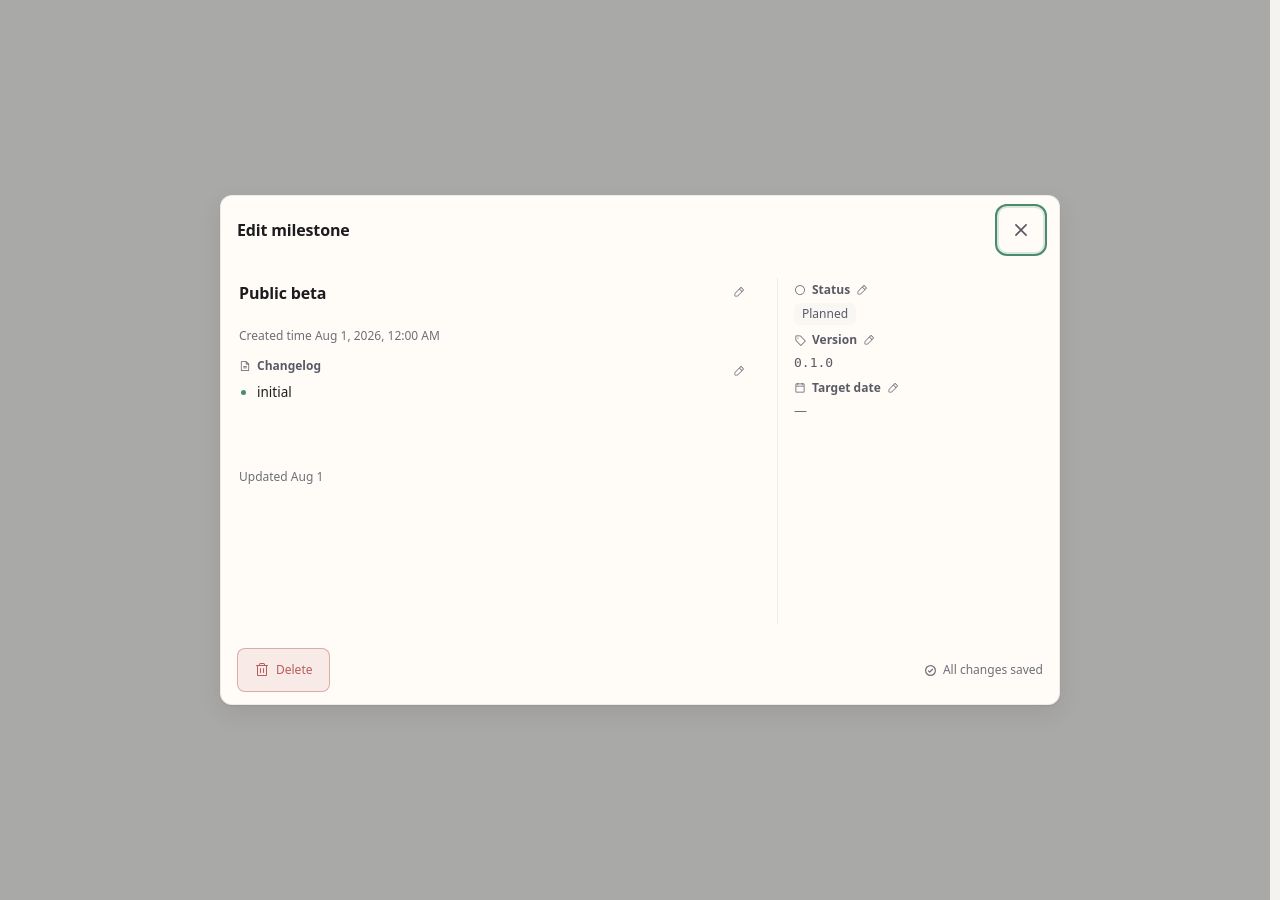
MilestoneModal › changes status from the sidebar select
Click the button "Planned" at (918, 314), box top-left (794, 303), bottom-right (1041, 325)
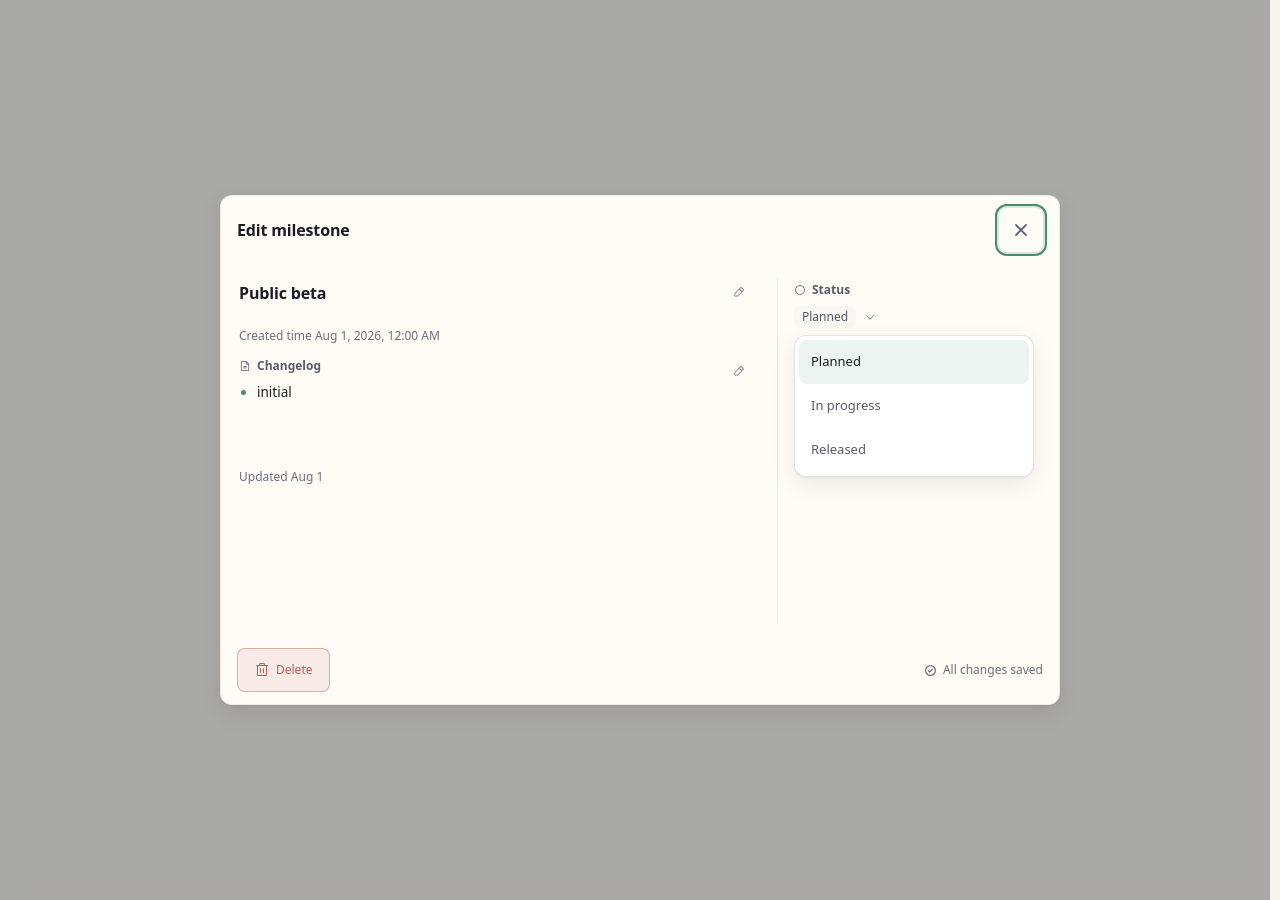
Click the option "Released" at (914, 450), box top-left (799, 428), bottom-right (1029, 472)
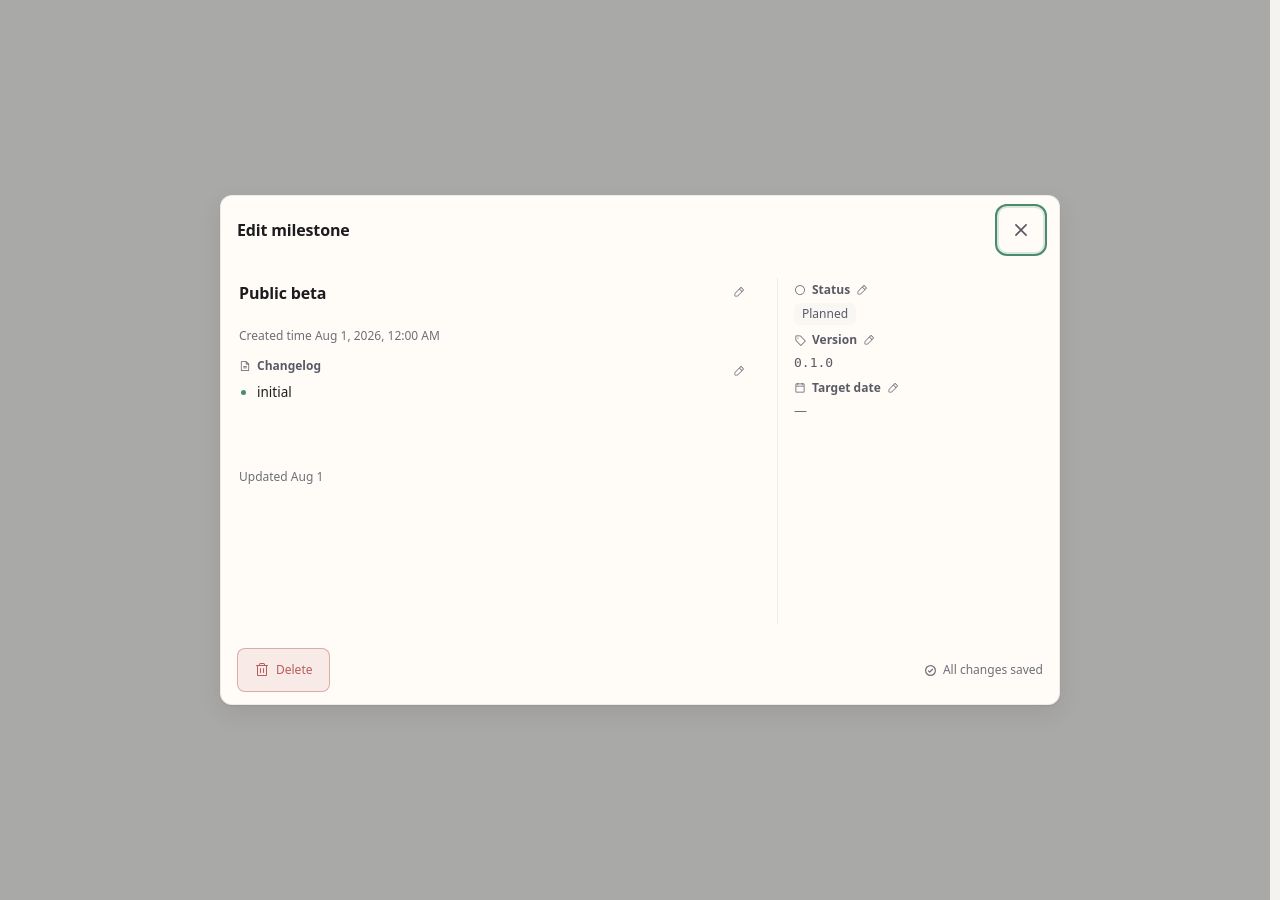
Check: the button with id "milestone-status" is gone
